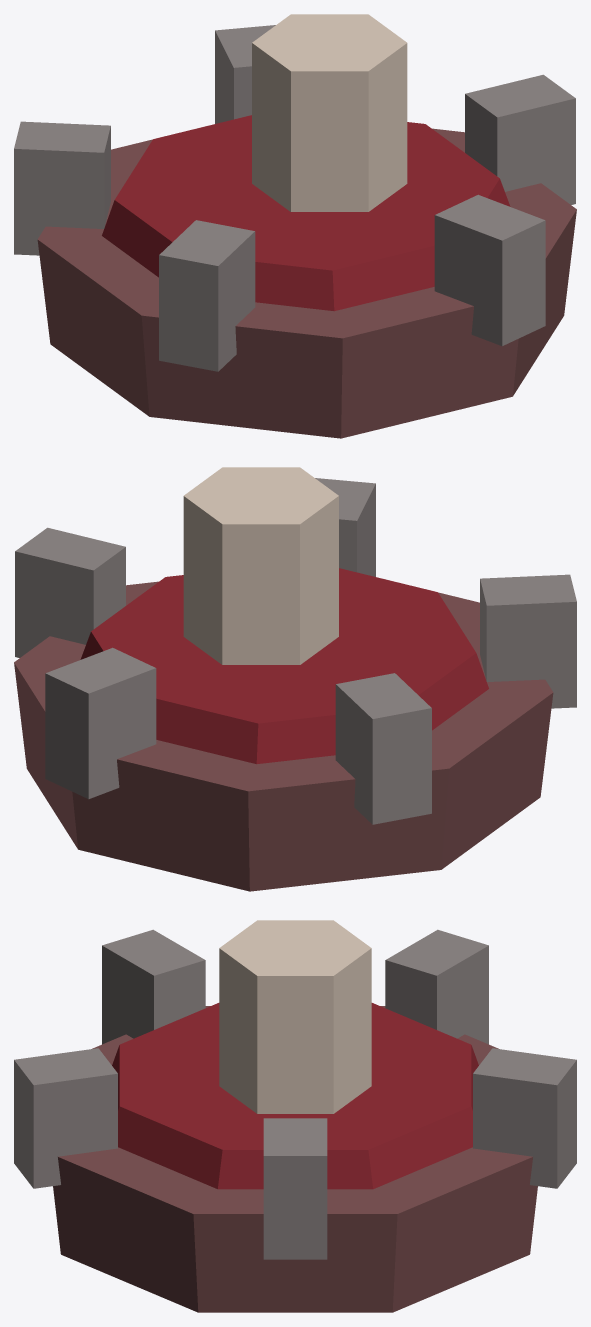
The model's file is inf_gore_stump.fbx.
3 renders of one model, top to bottom at view 1: azimuth 30°, elevation 25°; view 2: azimuth 150°, elevation 25°; view 3: azimuth 270°, elevation 25°, orthographic. The views are drawn at different scales.
Parts seen in each view (by area): view 1: inf_gore_stump; view 2: inf_gore_stump; view 3: inf_gore_stump.
Part boxes in pixels (box(x1,y1,x2,y2)): inf_gore_stump: box(14, 14, 576, 438); inf_gore_stump: box(14, 467, 576, 891); inf_gore_stump: box(14, 920, 576, 1312).
Bounding box in the file's own units: 42.17 × 24 × 44.34.
